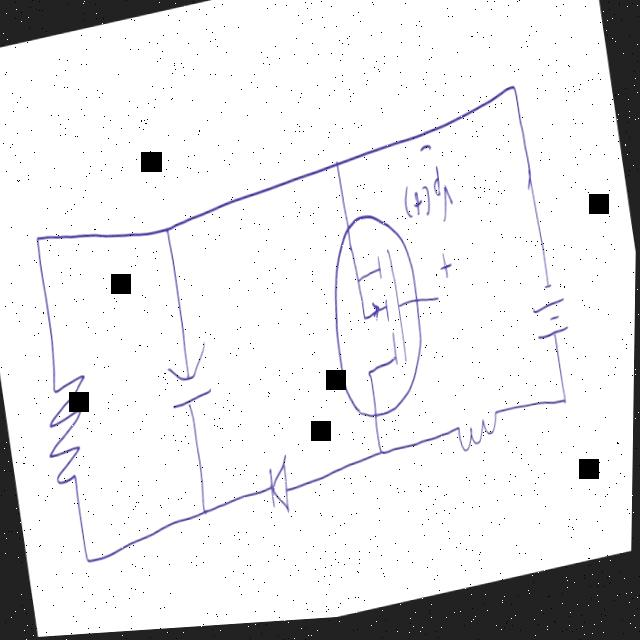capacitor: (158, 332, 220, 429)
diode: (253, 443, 319, 533)
inductor: (447, 400, 515, 472)
mosfet: (306, 192, 447, 439)
resistor: (24, 342, 114, 522)
source: (506, 249, 593, 369)
